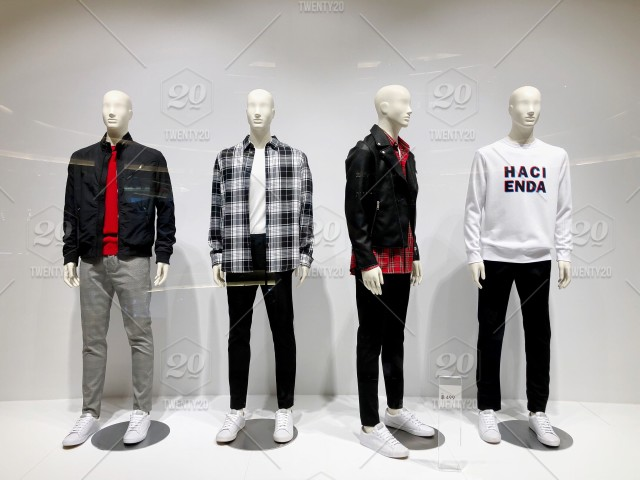person-like: (55, 86, 181, 451), (458, 81, 575, 449), (204, 84, 318, 448), (339, 81, 443, 462)
